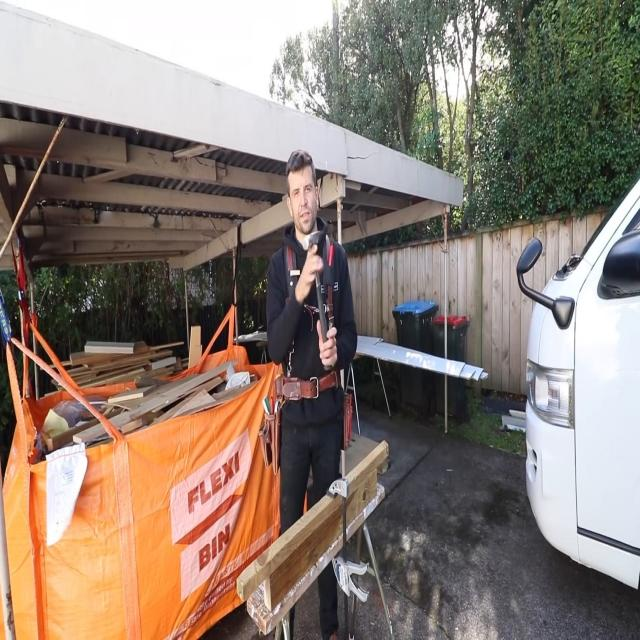hammer: (302, 230, 334, 370)
